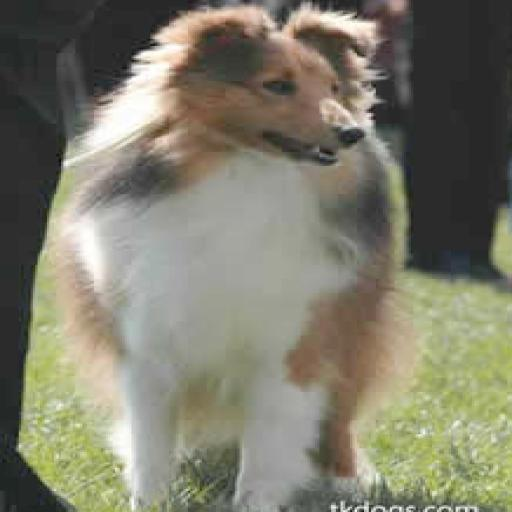dog_face: (164, 6, 383, 186)
